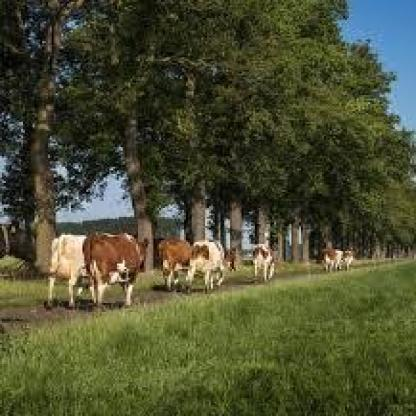cow: (80, 230, 148, 312), (45, 231, 87, 312), (181, 238, 227, 288), (155, 237, 194, 292), (250, 245, 277, 282), (320, 245, 353, 272)
